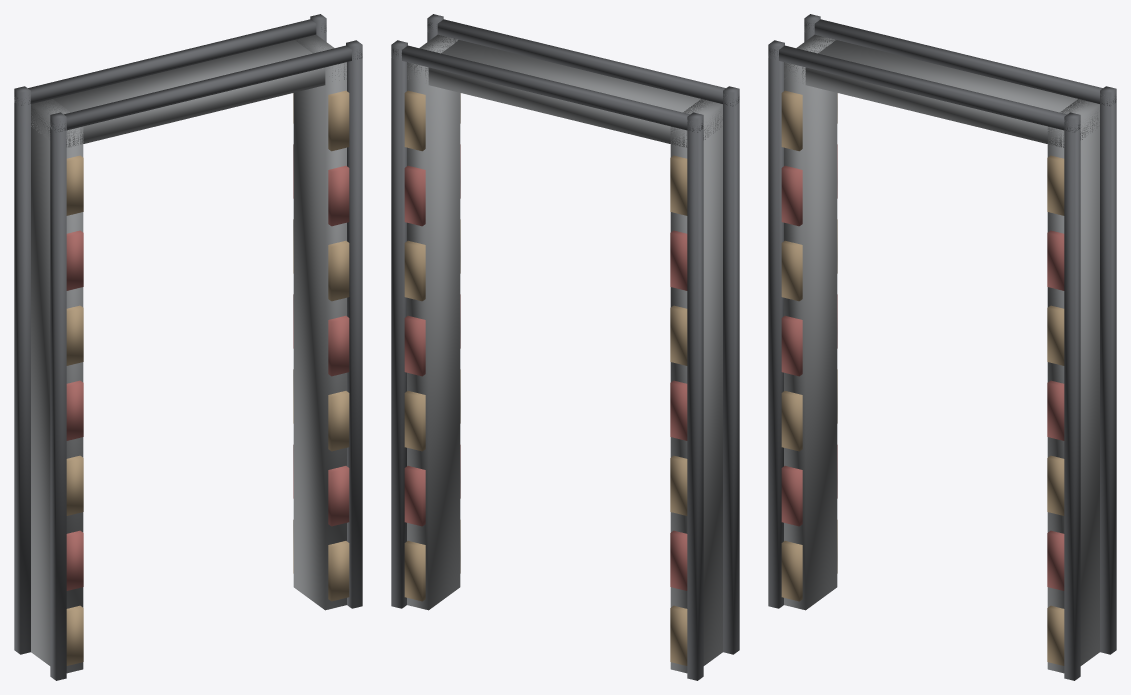
Rendered from doorway_brick_return_w106_h220_d24.glb.
3 views of the same model, side by side, from view 1: azimuth 30°, elevation 25°; view 2: azimuth 150°, elevation 25°; view 3: azimuth 330°, elevation 25° (orthographic).
Parts seen in each view (by area): view 1: world; view 2: world; view 3: world.
Part boxes in pixels (<box>): world: <box>14,14,362,680</box>; world: <box>391,14,739,680</box>; world: <box>768,14,1116,680</box>.
Bounding box in the file's own units: 1.34 × 2.35 × 0.3178.
